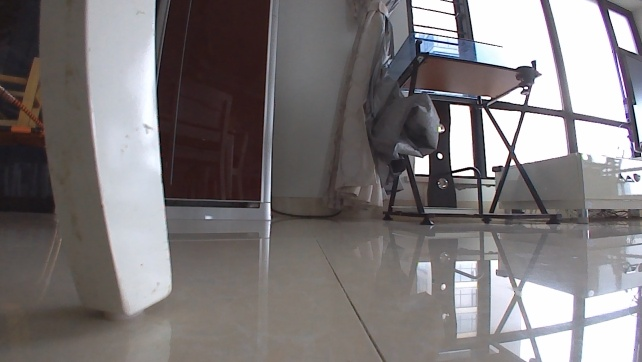wire: (271, 206, 343, 221)
